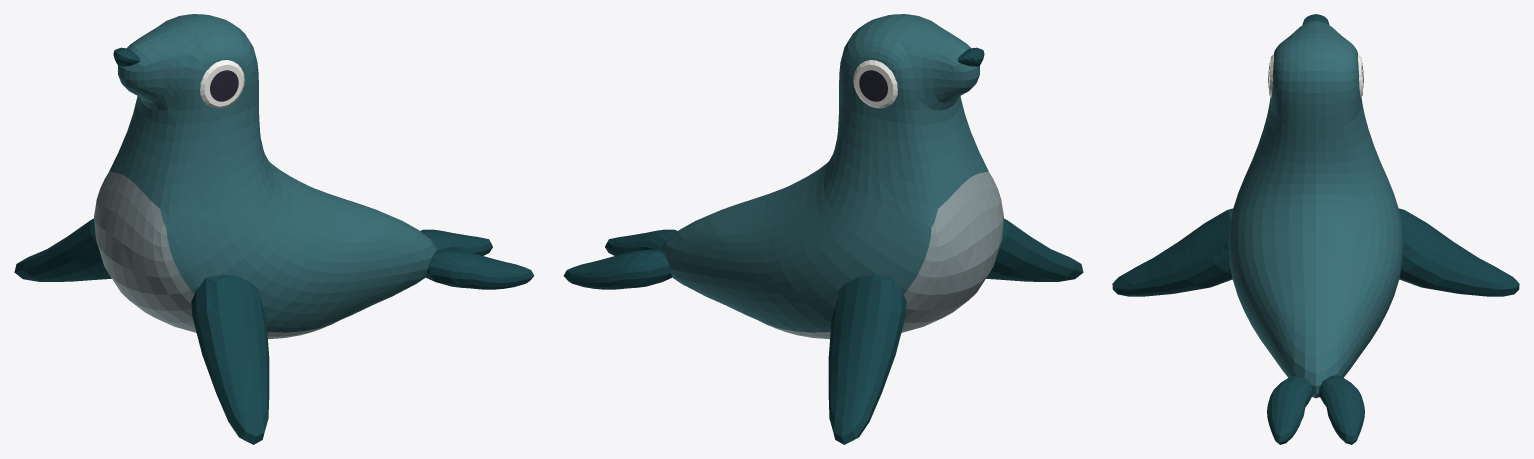
The model's file is SeaLion_LOD0.fbx.
3 renders of one model, left to right at view 1: azimuth 30°, elevation 25°; view 2: azimuth 150°, elevation 25°; view 3: azimuth 270°, elevation 25°, orthographic. The views are drawn at different scales.
Visible parts, largest first — view 1: Mesh; view 2: Mesh; view 3: Mesh.
Boxes of the visible parts, x1=… form: Mesh: x1=14, y1=14, x2=534, y2=444; Mesh: x1=563, y1=14, x2=1083, y2=444; Mesh: x1=1112, y1=14, x2=1519, y2=444.
Bounding box in the file's own units: 283 × 219 × 289.
1 material, 1 textured.
